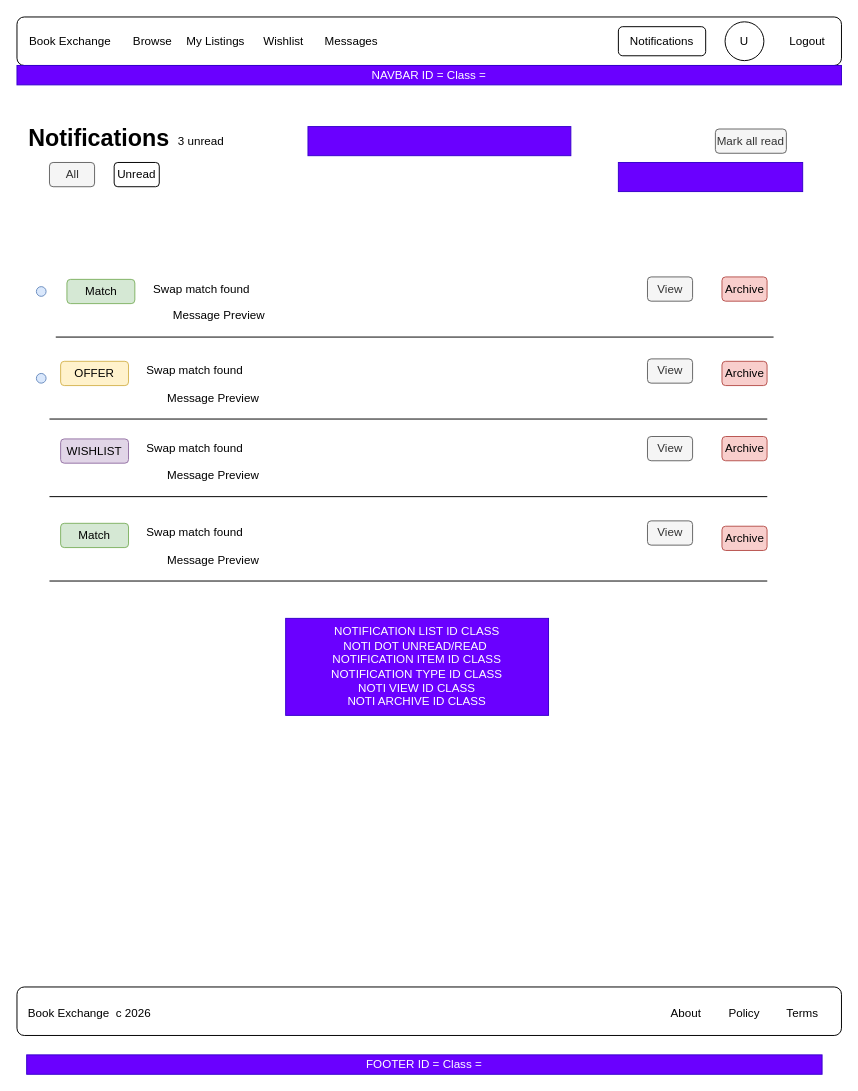
Some shapes in this 858 by 1091 pixel diagram are drawn without their labels. The shapes that lost their labels are listed below. From the top down, each one's centre as x and y in pixels, then its label:
pixel 439 141: NOTIFICATIONS UNREAD COUNT ID CLASS
pixel 710 177: MARK ALL READ ID CLASS
